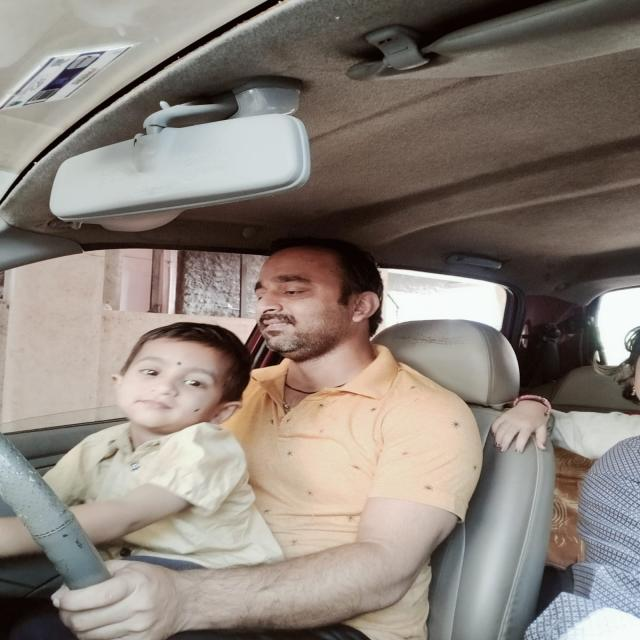child: (102, 312, 244, 437)
person: (251, 232, 390, 366)
